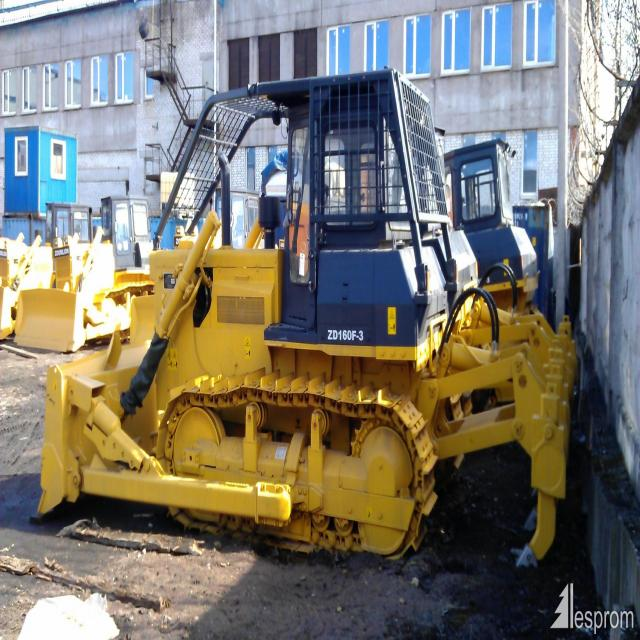Bulldozer: (42, 50, 604, 586)
